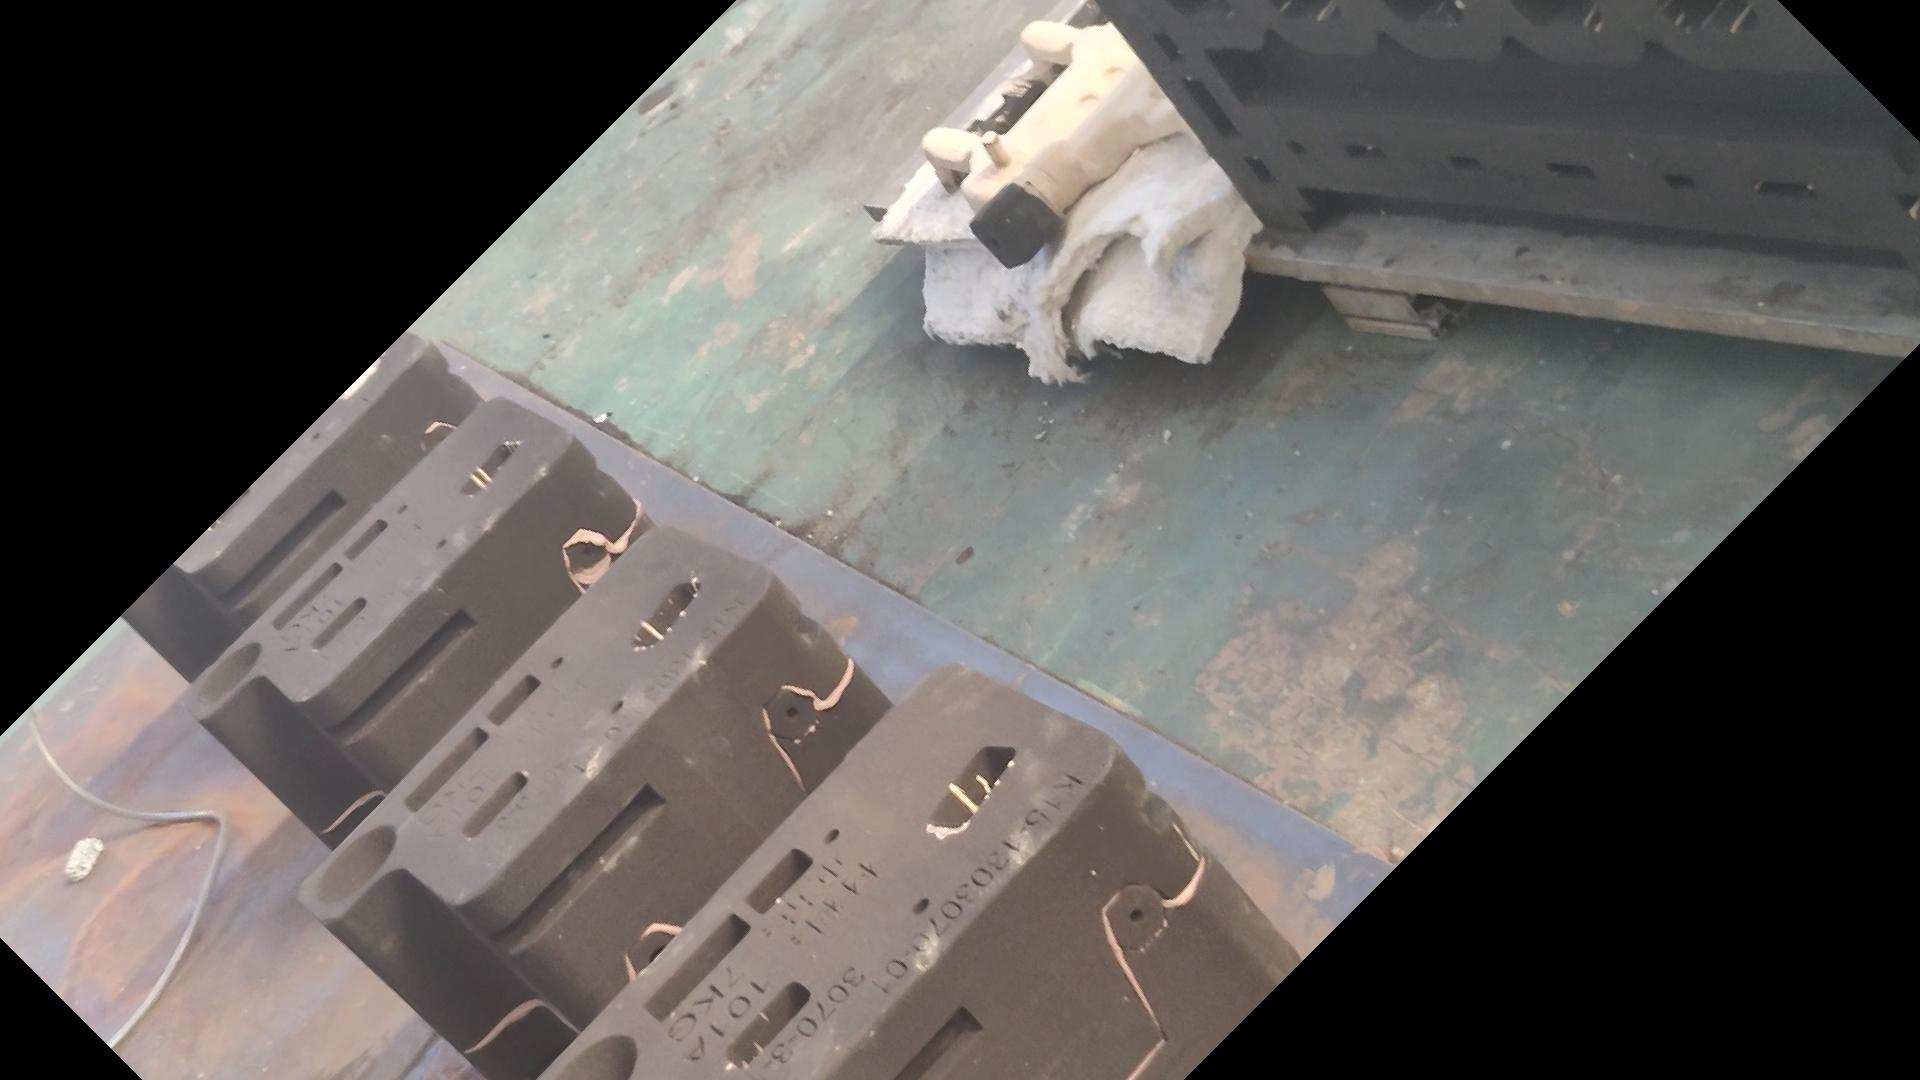pouring hole: (310, 823, 396, 905), (186, 642, 258, 711), (545, 1033, 638, 1080)
